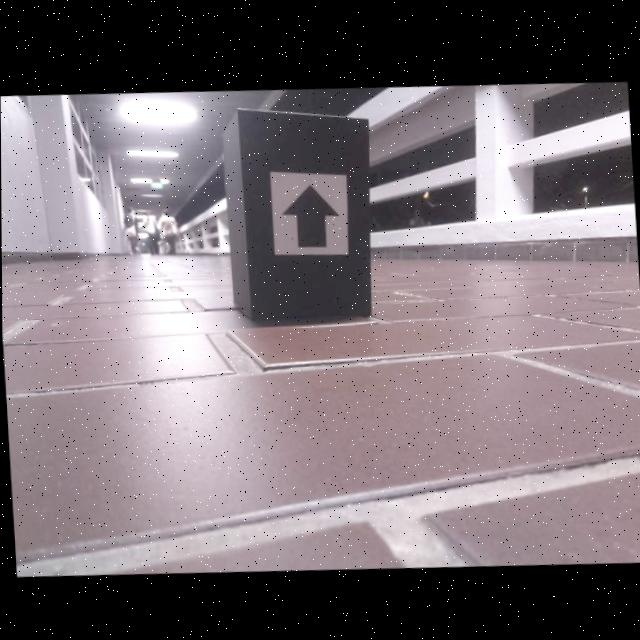UP: (281, 182, 340, 246)
